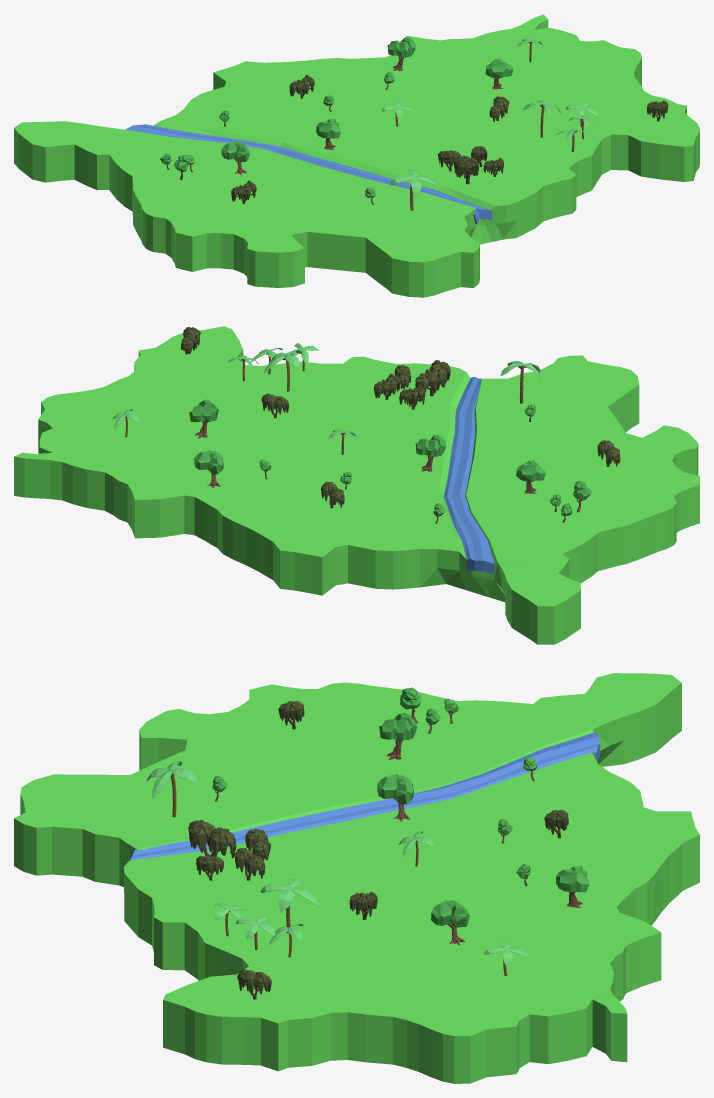
File: vienna.glb
3 renders of one model, top to bottom at view 1: azimuth 30°, elevation 25°; view 2: azimuth 150°, elevation 25°; view 3: azimuth 270°, elevation 25°, orthographic. The views are drawn at different scales.
Visible parts, largest first — view 1: non-triangulated.001, Cylinder.007, Tree_Type6_04_mesh.007; view 2: non-triangulated.001, Tree_Type6_04_mesh.007; view 3: non-triangulated.001, Tree_Type6_04_mesh.007, Cylinder.007, Cylinder.004, Tree_Type6_04_mesh.004, Tree_Type6_04_mesh.006.
Boxes of the visible parts, box(x1,y1,x2,y2) form: non-triangulated.001: box(14, 14, 699, 297); Cylinder.007: box(390, 169, 439, 210); Tree_Type6_04_mesh.007: box(453, 155, 478, 184); non-triangulated.001: box(14, 326, 699, 644); Tree_Type6_04_mesh.007: box(415, 360, 450, 396); non-triangulated.001: box(14, 673, 699, 1083); Tree_Type6_04_mesh.007: box(188, 820, 236, 858); Cylinder.007: box(146, 760, 198, 817); Cylinder.004: box(260, 878, 319, 927); Tree_Type6_04_mesh.004: box(237, 969, 271, 999); Tree_Type6_04_mesh.006: box(234, 848, 265, 880).
Size of the model in its own units: 0.8978 by 0.1118 by 0.7171.
62 materials, 8 textured.
